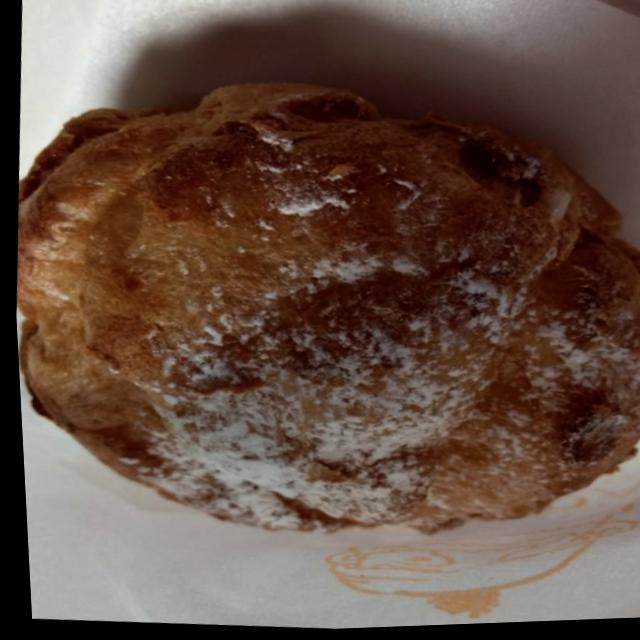炸货点心: (2, 27, 640, 570)
蛋糕甜品: (2, 27, 640, 570)
